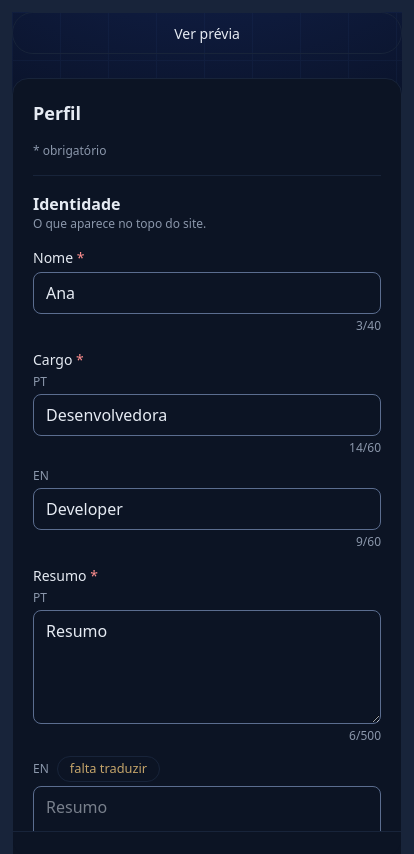
Scenario: ProfileEditor › no celular a prévia abre por um botão (sem duplicar a prévia)
Click the button "Ver prévia".
click(207, 33)  # box [12, 12, 402, 54]
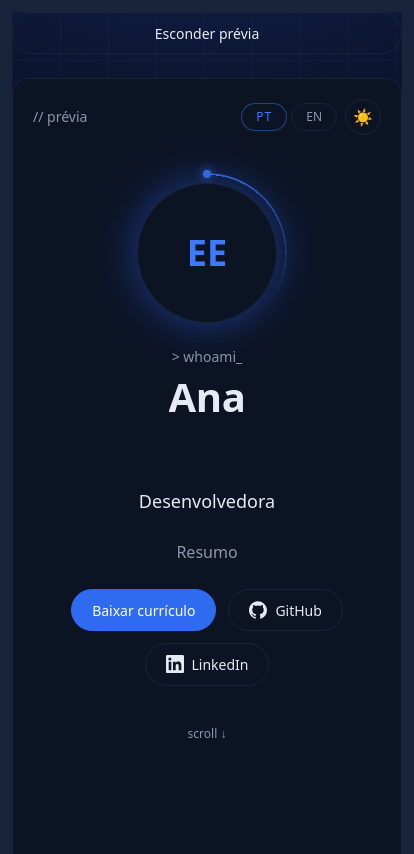
Now the button "Esconder prévia" is expanded, box [12, 12, 402, 54]
